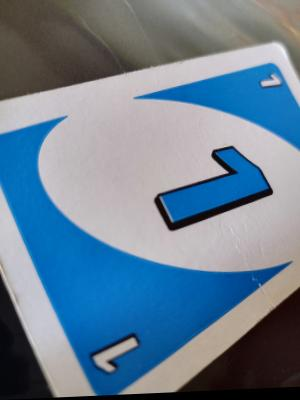blue: (8, 107, 300, 311)
num_1: (75, 326, 152, 382), (253, 72, 286, 98)
